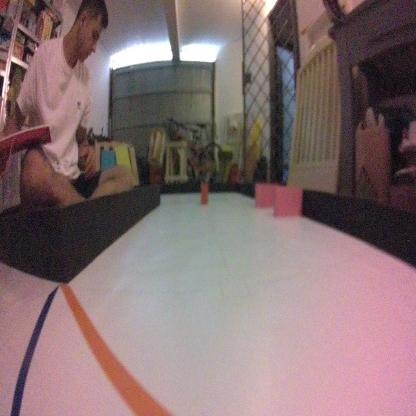magenta: (274, 186, 302, 222), (254, 186, 275, 210)
red: (199, 181, 209, 205)
